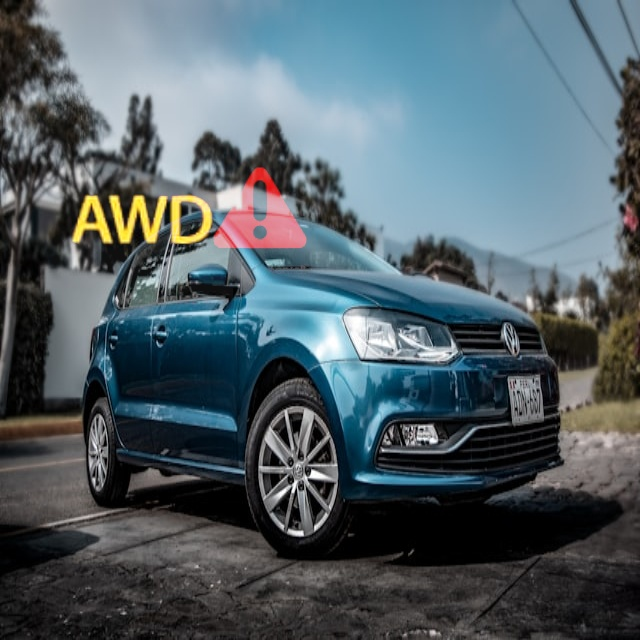symbol: (48, 129, 233, 314), (186, 135, 333, 282)
